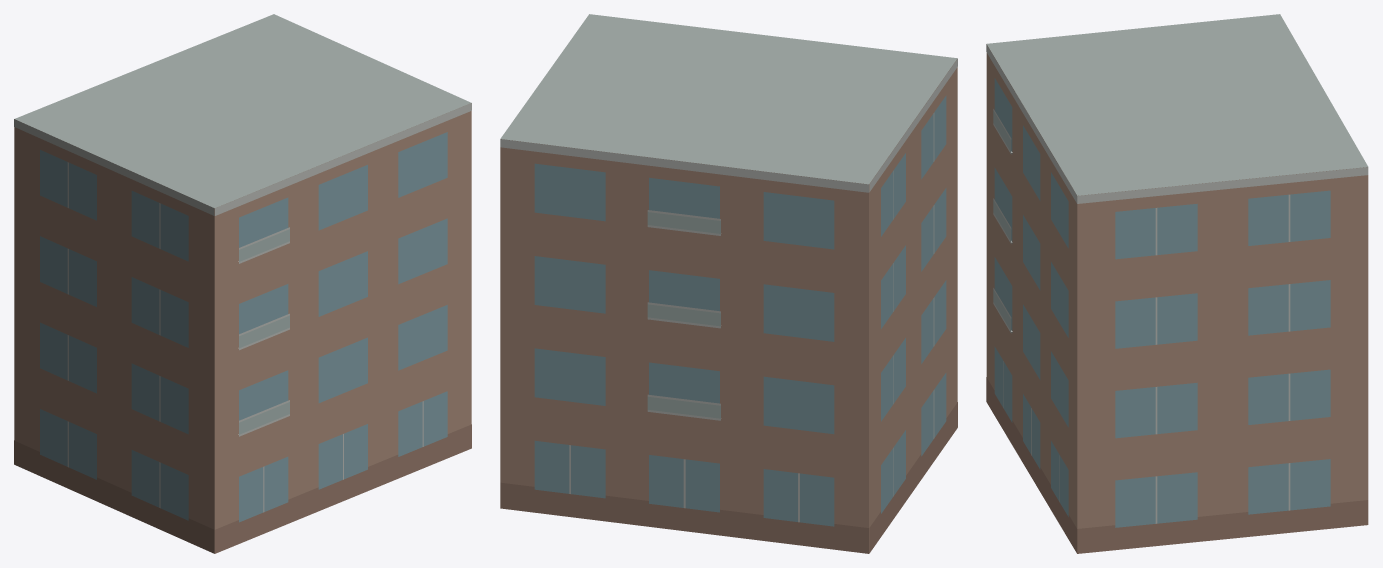
The model's file is survey-upis-32603167.glb.
3 views of the same model, side by side, from view 1: azimuth 30°, elevation 25°; view 2: azimuth 150°, elevation 25°; view 3: azimuth 270°, elevation 25° (orthographic). The views are drawn at different scales.
Visible parts, largest first — view 1: survey-upis-32603167.tmp; view 2: survey-upis-32603167.tmp; view 3: survey-upis-32603167.tmp.
Boxes of the visible parts, box(x1,y1,x2,y2) form: survey-upis-32603167.tmp: box(14, 14, 471, 553); survey-upis-32603167.tmp: box(500, 14, 957, 553); survey-upis-32603167.tmp: box(986, 14, 1368, 553).
Size of the model in its own units: 11.66 by 10.7 by 10.36.
